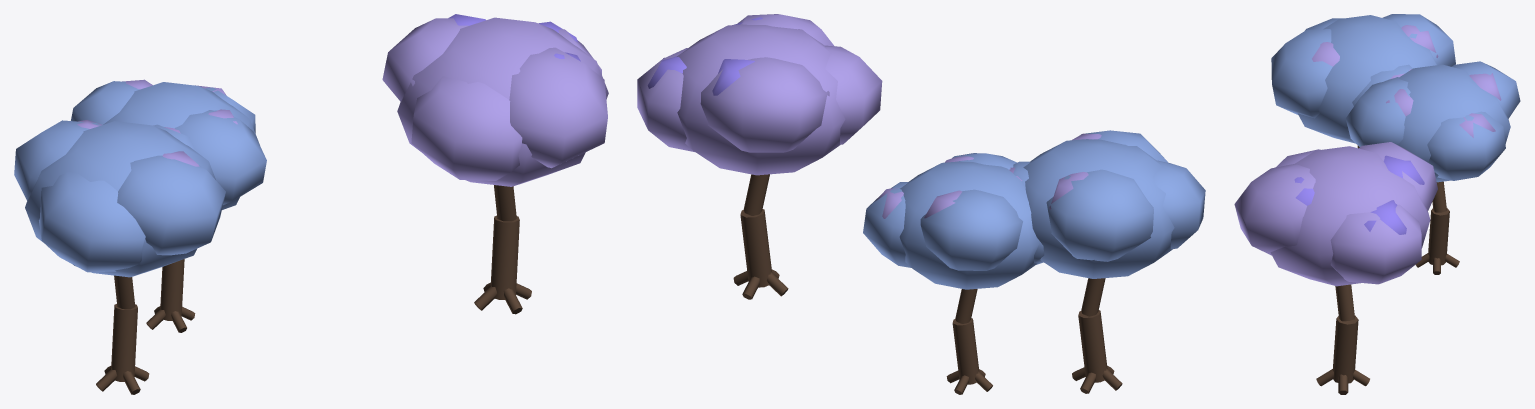
Rendered from flowering-trees.glb.
The picture shows the model from 3 angles, left to right: view 1: azimuth 30°, elevation 25°; view 2: azimuth 150°, elevation 25°; view 3: azimuth 270°, elevation 25°; orthographic projection. The views are drawn at different scales.
Visible parts, largest first — view 1: FloweringTrees_treeBlossomBlue, FloweringTrees_treeBlossomLila, FloweringTrees_treeBark, FloweringTrees_flowerLavender; view 2: FloweringTrees_treeBlossomBlue, FloweringTrees_treeBlossomLila, FloweringTrees_treeBark, FloweringTrees_flowerLavender; view 3: FloweringTrees_treeBlossomBlue, FloweringTrees_treeBlossomLila, FloweringTrees_treeBark, FloweringTrees_flowerLavender.
Boxes of the visible parts, <box> form: FloweringTrees_treeBlossomBlue: <box>14,81,266,277</box>; FloweringTrees_treeBlossomLila: <box>77,17,608,186</box>; FloweringTrees_treeBark: <box>96,185,531,394</box>; FloweringTrees_flowerLavender: <box>448,14,580,61</box>; FloweringTrees_treeBlossomBlue: <box>863,130,1205,289</box>; FloweringTrees_treeBlossomLila: <box>637,14,1101,218</box>; FloweringTrees_treeBark: <box>733,174,1122,394</box>; FloweringTrees_flowerLavender: <box>647,17,762,95</box>; FloweringTrees_treeBlossomBlue: <box>1271,14,1520,182</box>; FloweringTrees_treeBlossomLila: <box>1234,25,1501,286</box>; FloweringTrees_treeBark: <box>1316,145,1459,394</box>; FloweringTrees_flowerLavender: <box>1294,155,1424,234</box>.
Bounding box in the file's own units: 20.5 × 9.43 × 10.68.
